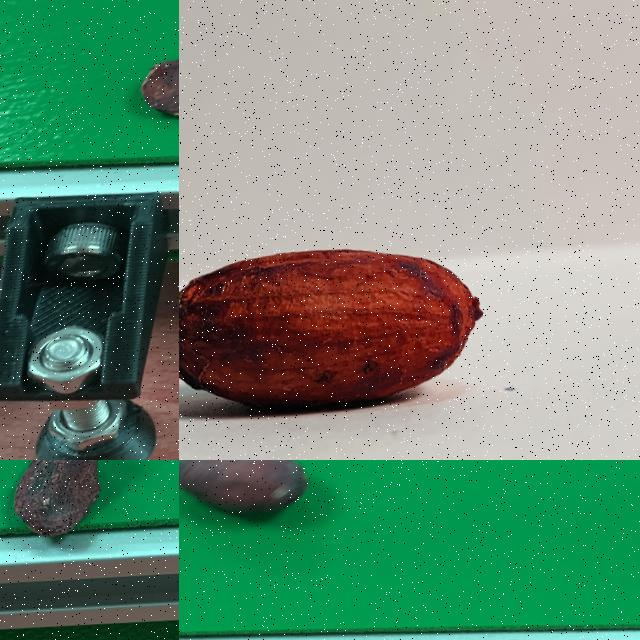Fine_cocoabeans: (179, 223, 579, 459), (179, 460, 386, 553)
Flat_cocoabeans: (0, 460, 178, 589), (42, 27, 178, 165)
